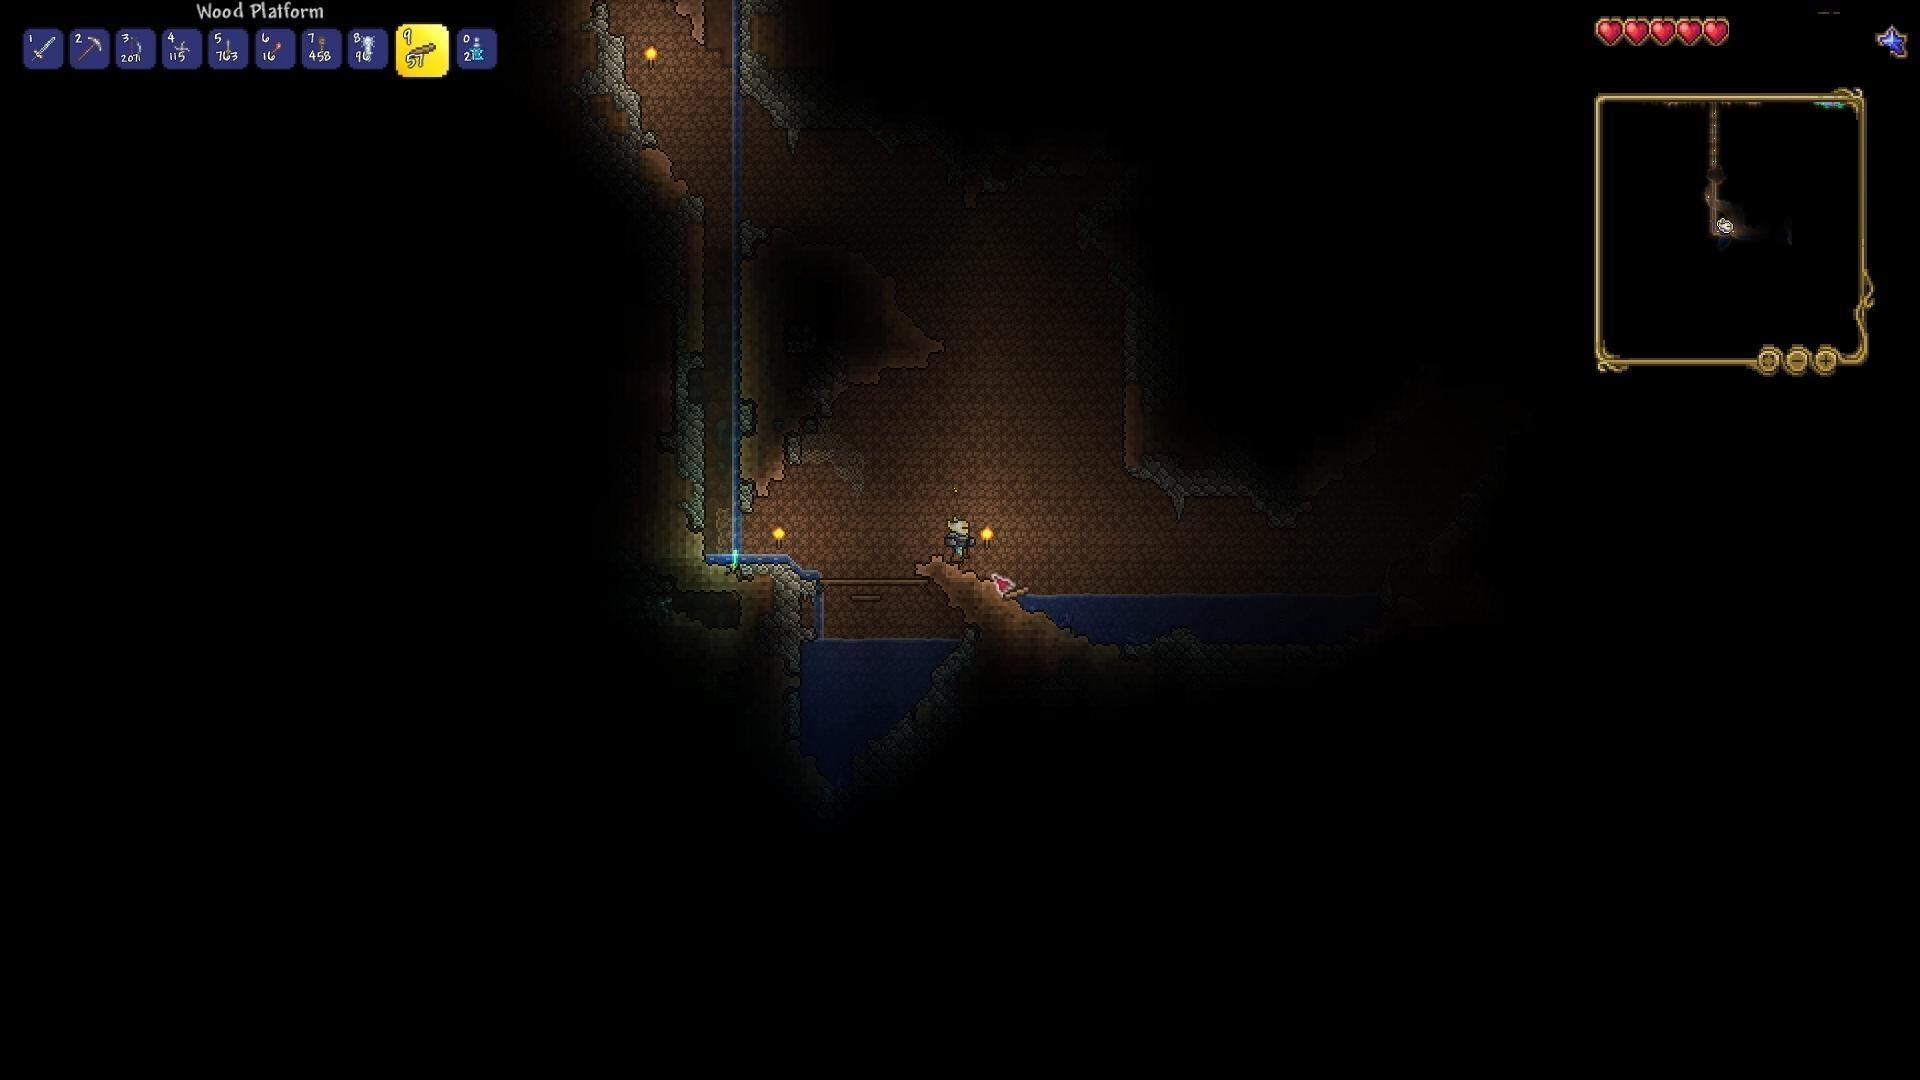heart: (1702, 17, 1733, 51), (1593, 16, 1626, 46), (1676, 15, 1704, 50), (1650, 16, 1676, 49), (1625, 15, 1651, 44)
liquid: (1011, 576, 1288, 612), (800, 625, 977, 653)
stone: (738, 0, 825, 142), (574, 7, 650, 149), (665, 336, 717, 521), (1117, 450, 1250, 505), (741, 556, 807, 649)
